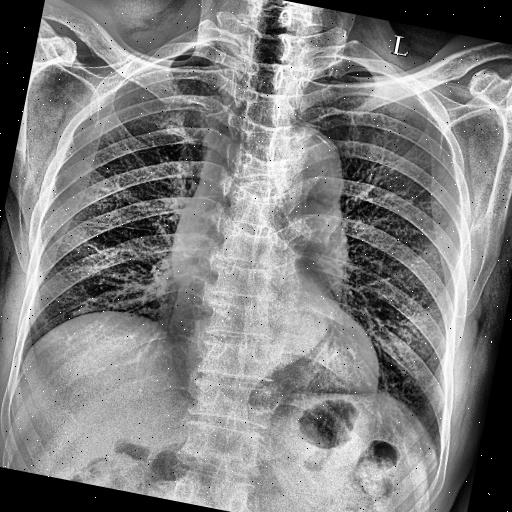0- Aortic enlargement: (178, 99, 367, 220), (185, 100, 366, 220), (212, 110, 358, 218)
2- Calcification: (212, 110, 358, 218), (300, 128, 338, 158)
